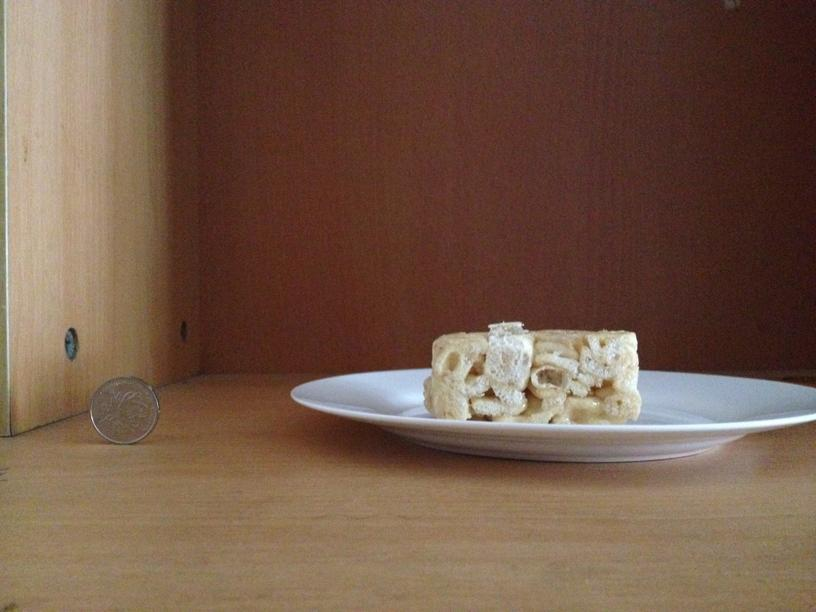coin: (89, 377, 158, 443)
sachima: (424, 325, 639, 423)
